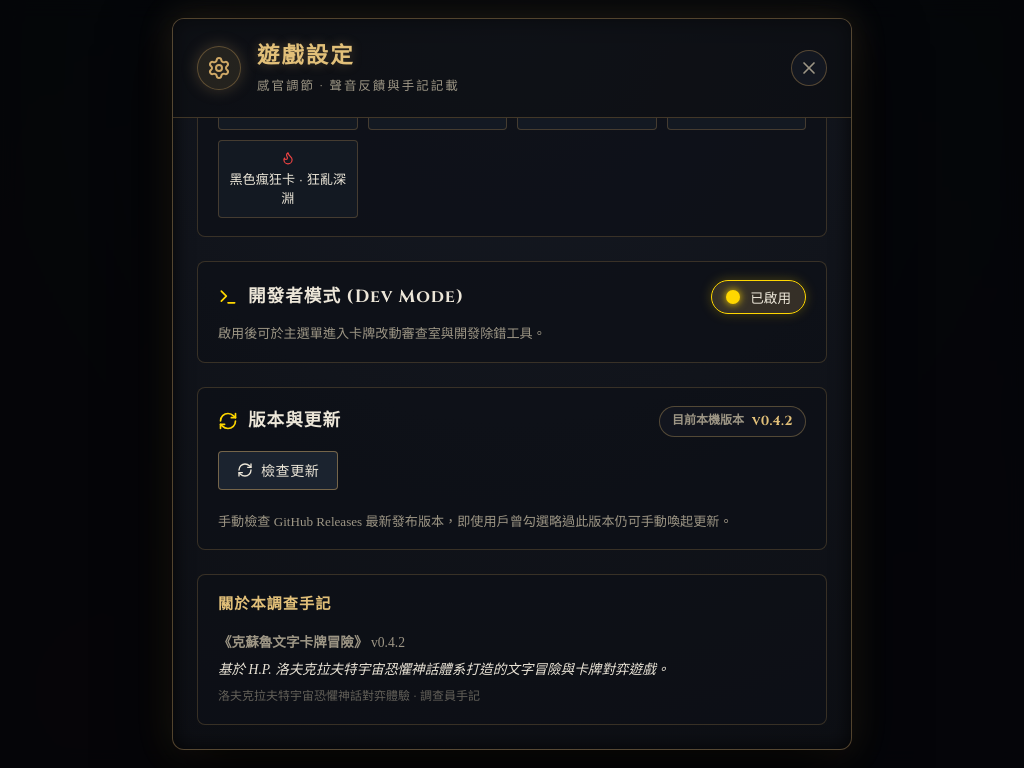
Test: SettingsModal - Version & Manual Update Check (ADR-0040 / #74) › wakes and opens UpdateModal when a new version is found, even if previously dismissed
This screenshot has width=1024, height=768.
(page scrolled)
Click the button "檢查更新". click: click(278, 470)
box: [218,450,338,490]
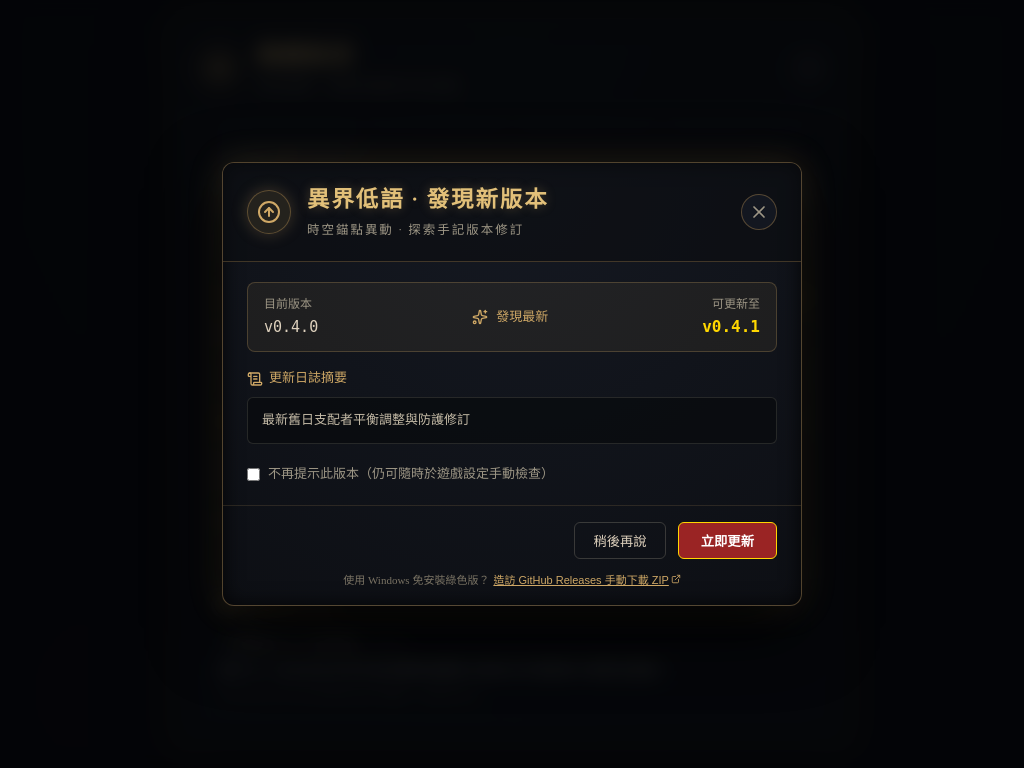
Expected: the heading "異界低語 · 發現新版本" is shown, [307,183,549,218]
Expected: the text "0.4.1" is shown, [712,317,760,336]
Expected: the text "最新舊日支配者平衡調整與防護修訂" is shown, [247,397,777,444]
